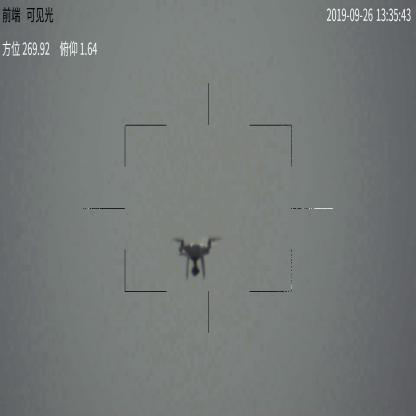uav: (172, 237, 222, 280)
